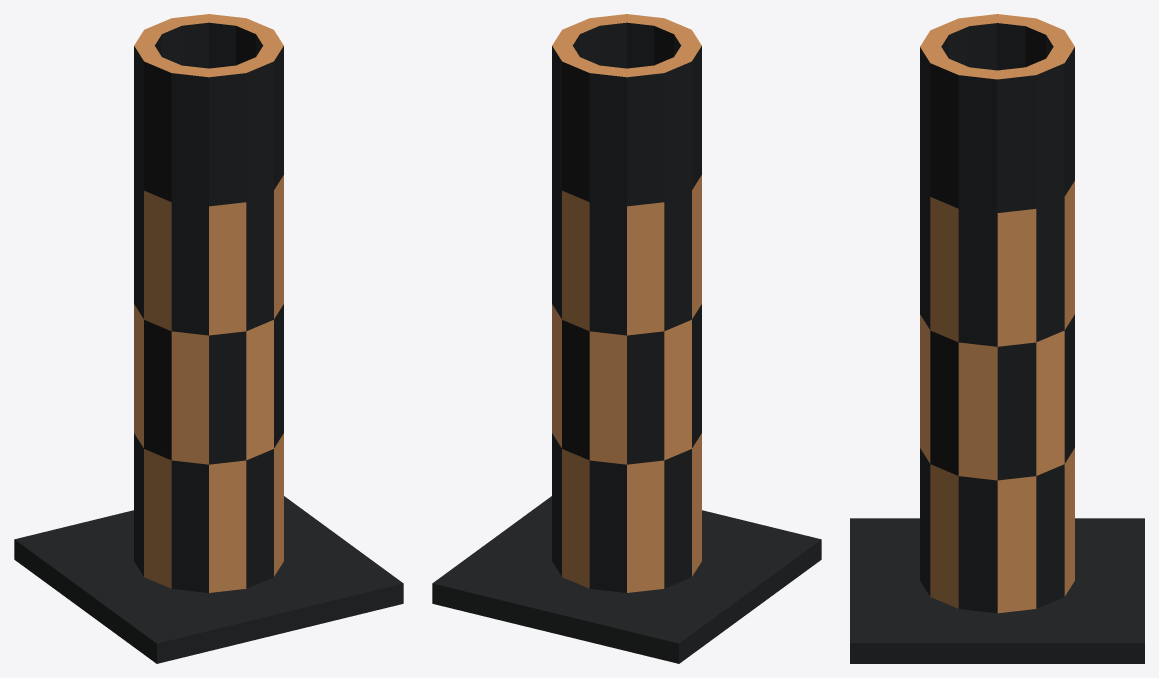
File: Mortar_3inch_DummyMortar.fbx
3 views of the same model, side by side, from view 1: azimuth 30°, elevation 25°; view 2: azimuth 150°, elevation 25°; view 3: azimuth 270°, elevation 25° (orthographic). The views are drawn at different scales.
Parts seen in each view (by area): view 1: Mortar_3inch_DummyMortar; view 2: Mortar_3inch_DummyMortar; view 3: Mortar_3inch_DummyMortar.
Part boxes in pixels (x1,y1,x2,y2): Mortar_3inch_DummyMortar: (14, 14, 403, 663); Mortar_3inch_DummyMortar: (432, 14, 821, 663); Mortar_3inch_DummyMortar: (850, 14, 1144, 663).
Size of the model in its own units: 20 by 41.52 by 20.
